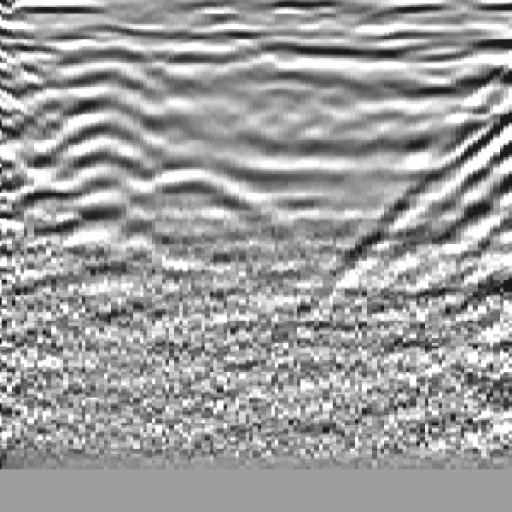metalic: (125, 34, 297, 275)
nonmetalic: (388, 45, 512, 281)
